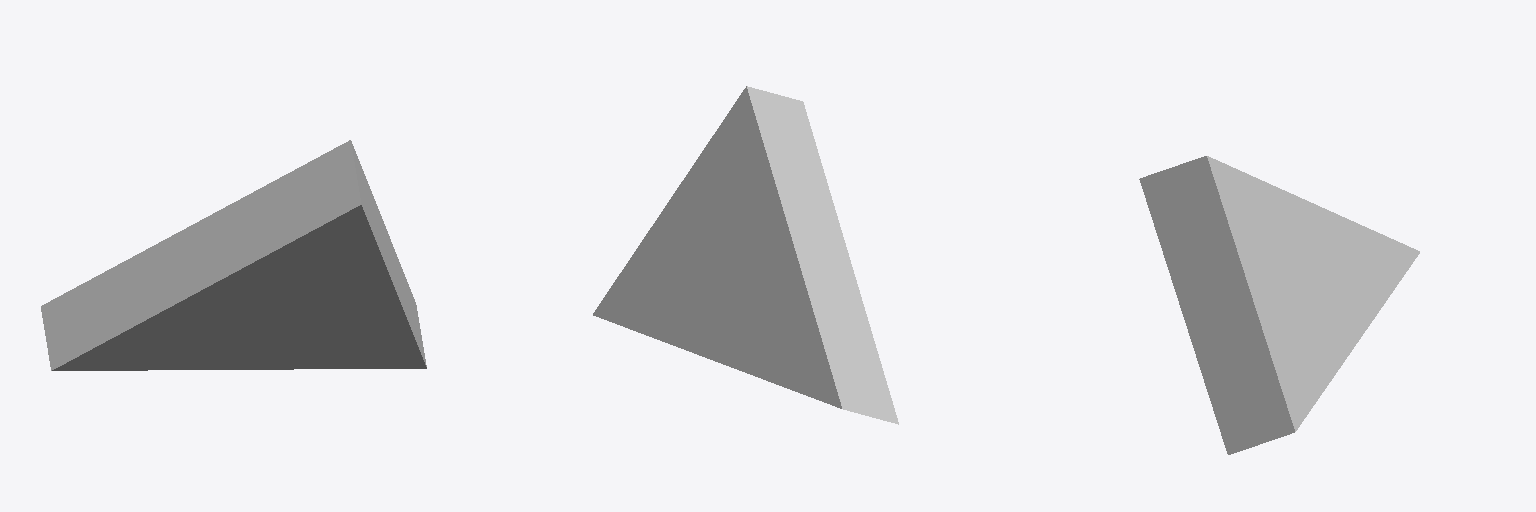
The model's file is brie.obj.
The picture shows the model from 3 angles: view 1: azimuth 30°, elevation 25°; view 2: azimuth 150°, elevation 25°; view 3: azimuth 270°, elevation 25°; orthographic projection.
Parts seen in each view (by area): view 1: Cylinder; view 2: Cylinder; view 3: Cylinder.
Boxes of the visible parts, box(x1,y1,x2,y2) form: Cylinder: box(41, 140, 426, 370); Cylinder: box(593, 86, 898, 424); Cylinder: box(1139, 156, 1419, 454).
Bounding box in the file's own units: 0.6998 × 0.5128 × 0.5077.